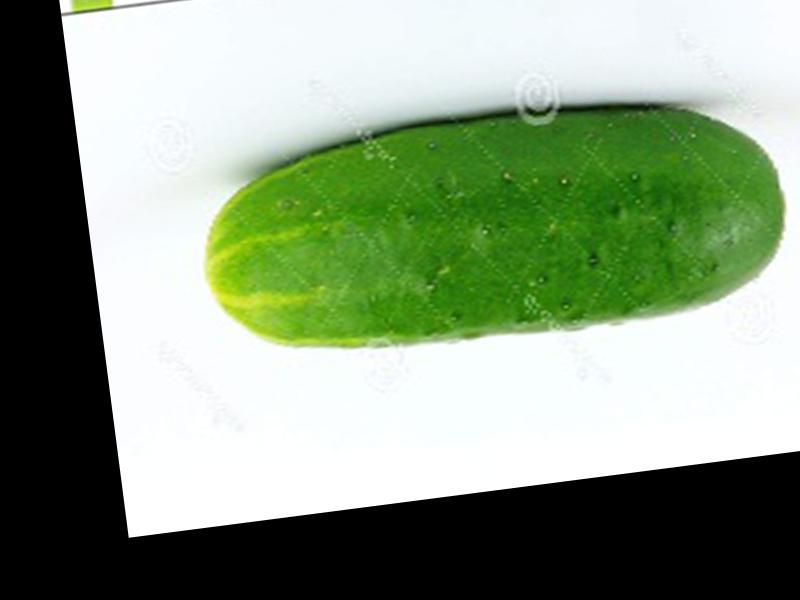Cucumber: (193, 78, 798, 370)
